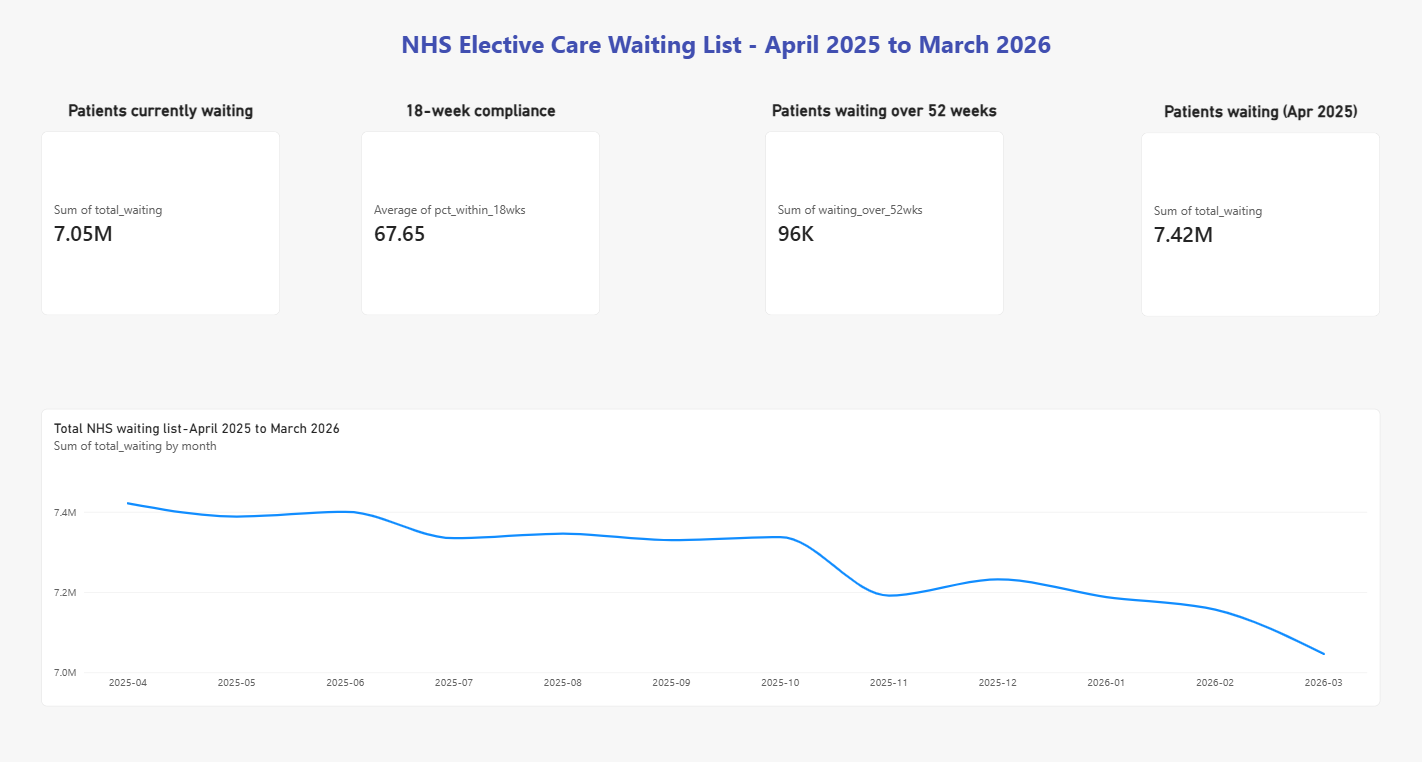

The page's visual inventory and layout, read from the dashboard file:
{"tool":"powerbi","page":{"name":"Executive Summary","canvas":[1920,1080],"ordinal":0},"visuals":[{"type":"textbox","box":[47.1,50.7,1873,97.7],"z":0},{"type":"cardVisual","title":"Patients currently waiting","fields":{"Data":["Sum(rtt_specialty_trend.total_waiting)"]},"box":[67.9,148.2,319,286.1],"z":1000},{"type":"cardVisual","title":"18-week compliance","fields":{"Data":["Avg(rtt_specialty_trend.pct_within_18wks)"]},"box":[496.1,148.2,319,286.1],"z":2000},{"type":"cardVisual","title":"Patients waiting over 52 weeks","fields":{"Data":["Sum(rtt_specialty_trend.waiting_over_52wks)"]},"box":[1035.3,148.2,319,286.1],"z":3000},{"type":"cardVisual","title":"Patients waiting (Apr 2025)","fields":{"Data":["Sum(rtt_specialty_trend.total_waiting)"]},"box":[1537.6,150.3,319,286.1],"z":4000},{"type":"lineChart","title":"Total NHS waiting list-April 2025 to March 2026","fields":{"Category":["rtt_specialty_trend.month.Variation.Date Hierarchy.Month"],"Y":["Sum(rtt_specialty_trend.total_waiting)"]},"box":[67.9,559.9,1788.7,397.3],"z":5000}]}

Visuals, with their boxes on the page's 1920x1080 design canvas (x1, y1, x2, y2). These are canvas units, not pixel positions in the 1422x762 screenshot, which may show the page scaled, cropped or inside an application window:
textbox: left=47, top=51, right=1920, bottom=148
"Patients currently waiting" cardVisual: left=68, top=148, right=387, bottom=434
"18-week compliance" cardVisual: left=496, top=148, right=815, bottom=434
"Patients waiting over 52 weeks" cardVisual: left=1035, top=148, right=1354, bottom=434
"Patients waiting (Apr 2025)" cardVisual: left=1538, top=150, right=1857, bottom=436
"Total NHS waiting list-April 2025 to March 2026" lineChart: left=68, top=560, right=1857, bottom=957
